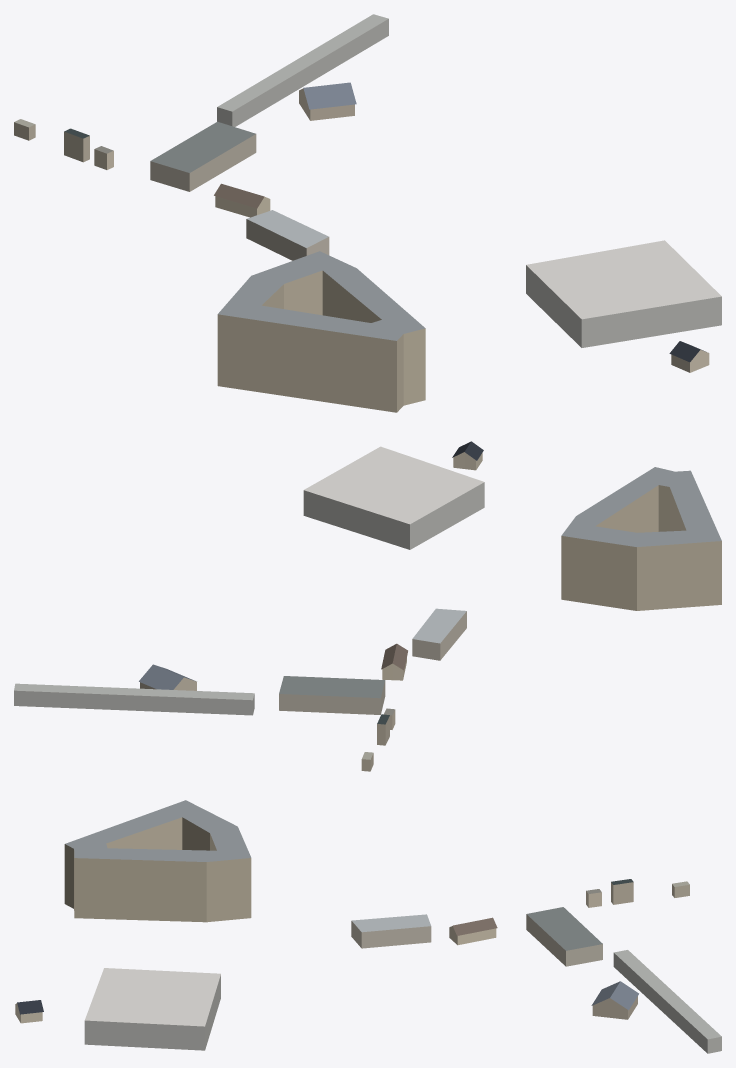
3 views of the same model, one above another, from view 1: azimuth 30°, elevation 25°; view 2: azimuth 150°, elevation 25°; view 3: azimuth 270°, elevation 25° (orthographic). The views are drawn at different scales.
Visible parts, largest first — view 1: tuile; view 2: tuile; view 3: tuile.
Part boxes in pixels (box(x1,y1,x2,y2)): tuile: box(14, 14, 721, 412); tuile: box(14, 441, 721, 771); tuile: box(15, 800, 721, 1053).
Bounding box in the file's own units: 151 × 22.45 × 229.
